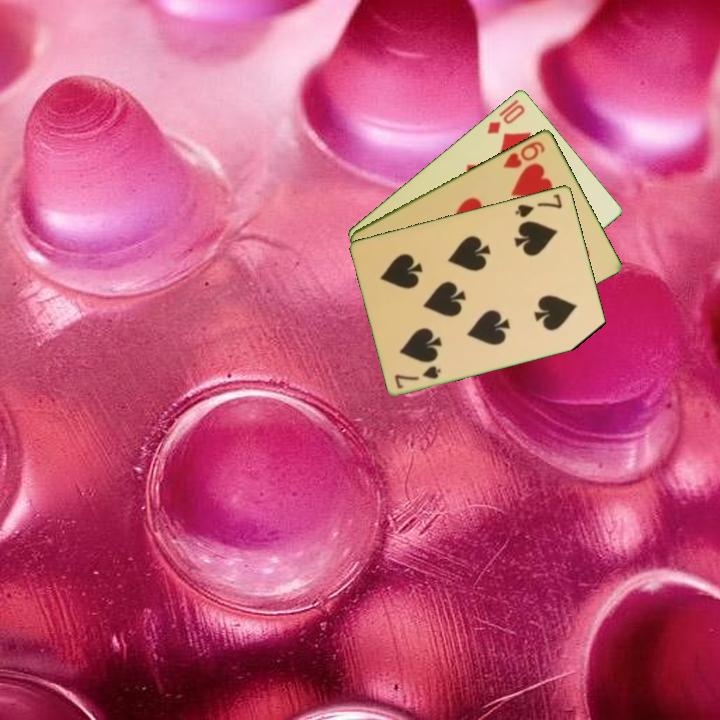10d: (484, 100, 528, 137)
6h: (500, 137, 548, 171)
7s: (512, 190, 565, 220), (391, 362, 444, 391)
